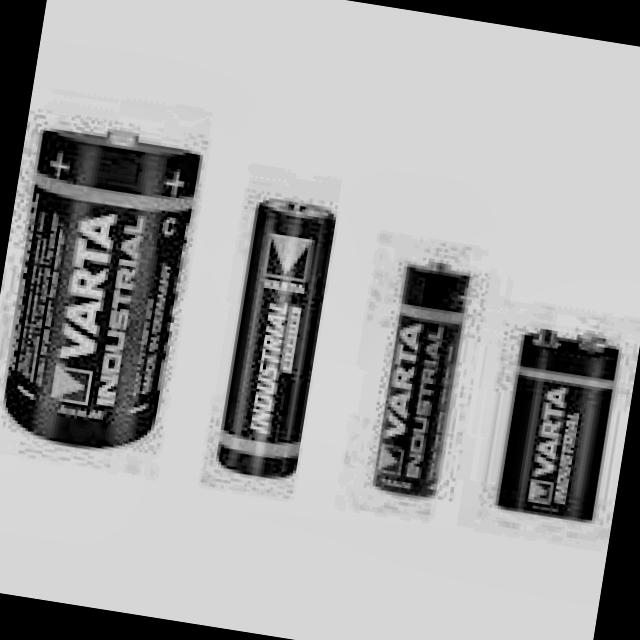Battery: (0, 125, 201, 457), (218, 194, 338, 476), (498, 329, 622, 524), (376, 259, 472, 496)
